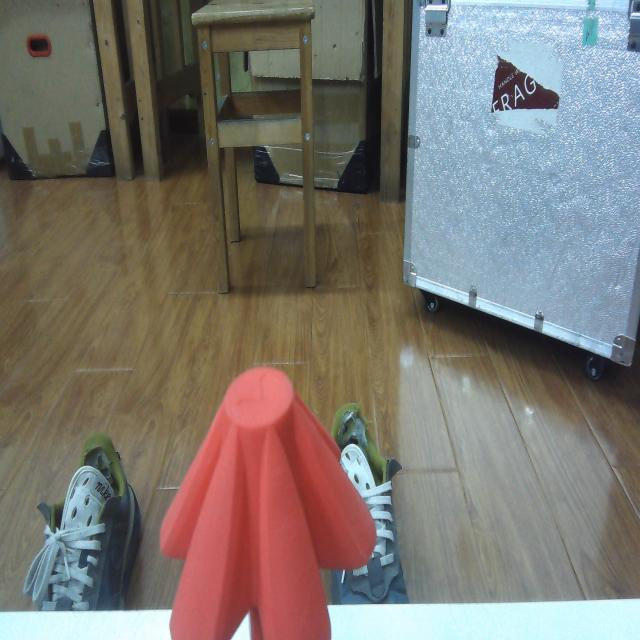zred-Stake-Head: (160, 366, 376, 640)
